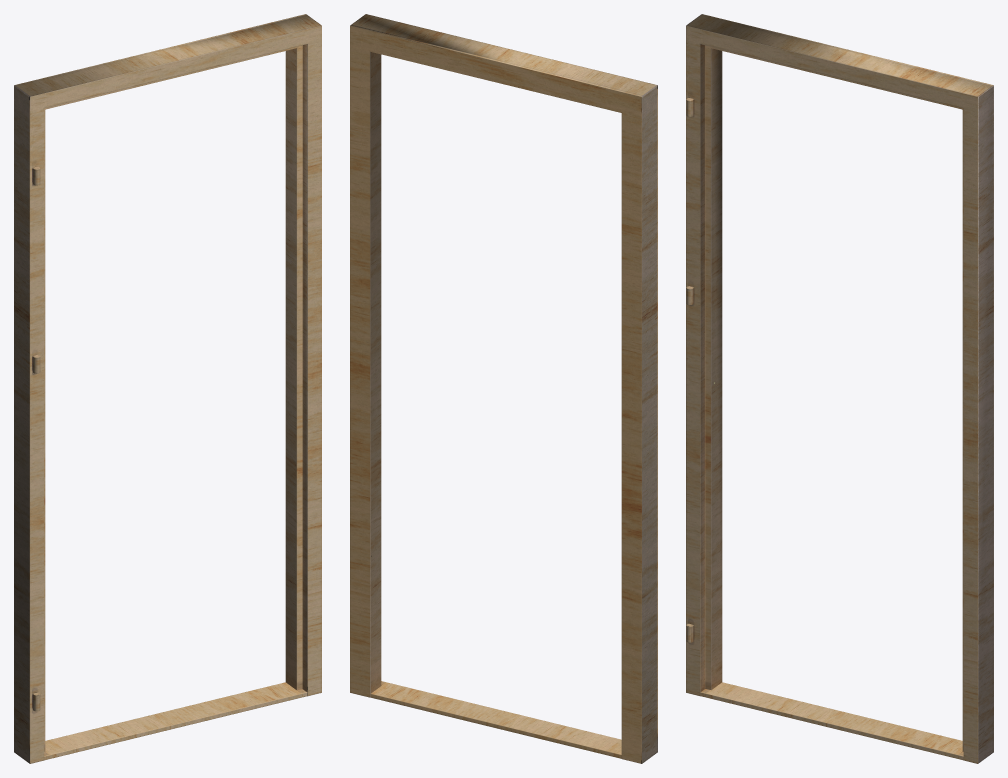
File: processed2_055_frame.obj
3 renders of one model, left to right at view 1: azimuth 30°, elevation 25°; view 2: azimuth 150°, elevation 25°; view 3: azimuth 330°, elevation 25°, orthographic.
Size of the model in its own units: 94.1 by 206 by 10.71.
Materials: 1 (1 with a texture image).
